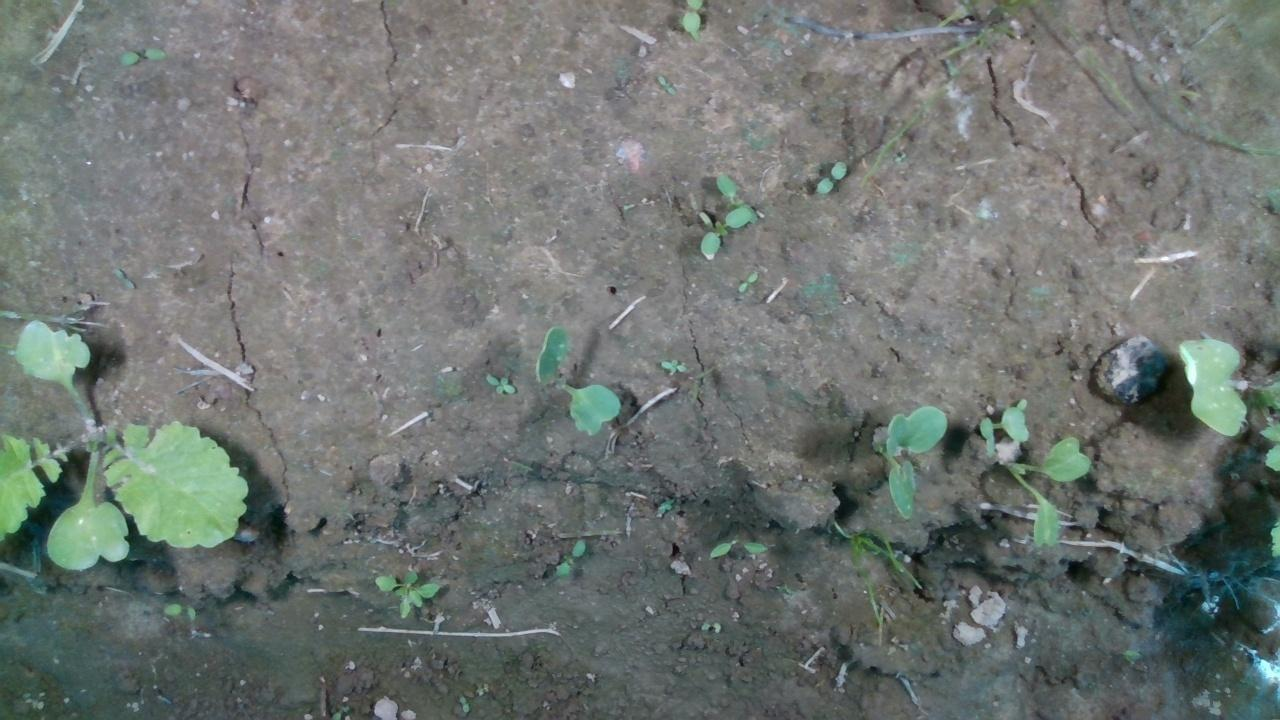weed: (813, 156, 866, 199), (706, 534, 770, 566), (473, 369, 518, 398), (650, 353, 696, 381), (559, 535, 582, 577), (651, 71, 683, 99), (733, 263, 755, 297)
